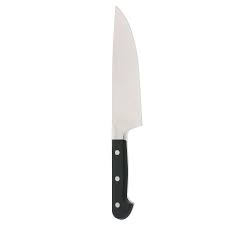knife: (110, 3, 143, 220)
